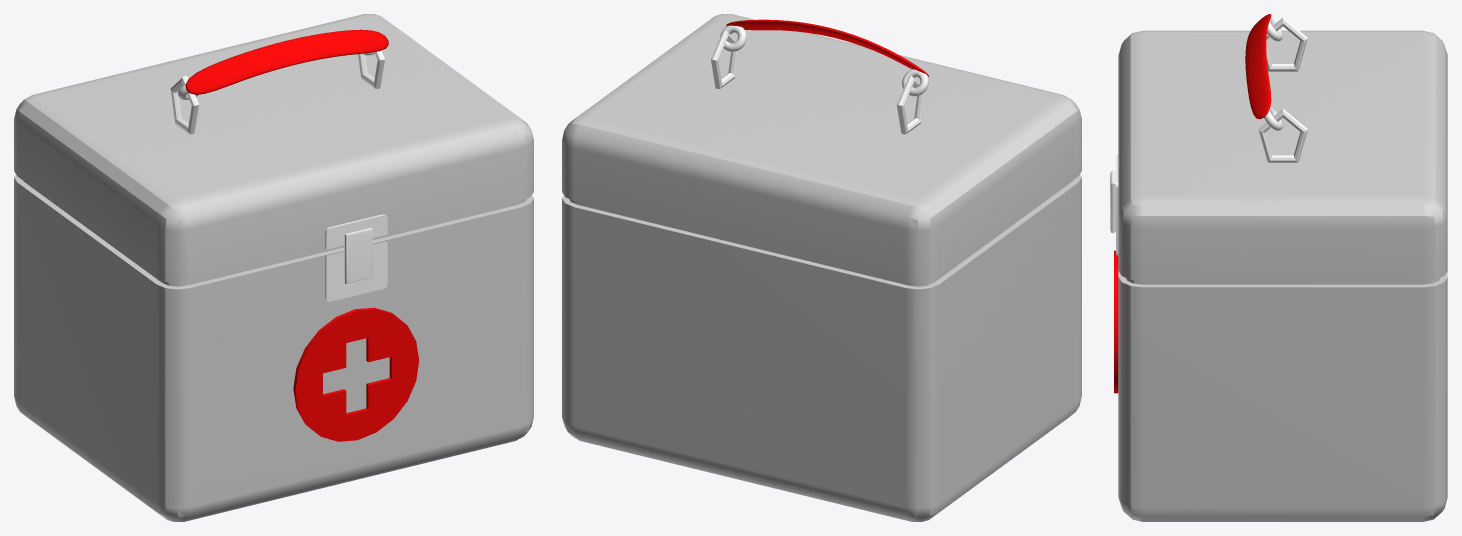
File: first_aid_box.glb
3 views of the same model, side by side, from view 1: azimuth 30°, elevation 25°; view 2: azimuth 150°, elevation 25°; view 3: azimuth 270°, elevation 25° (orthographic).
Visible parts, largest first — view 1: pCube42, pCylinder15, pCube45, pCube44, pCube43, pTorus2; view 2: pCube42, pCube45, pTorus2, pTorus1; view 3: pCube42, pCube45, pTorus1, pTorus2, pCylinder15.
Boxes of the visible parts, bbox=[...] form: pCube42: bbox=[14, 14, 533, 521]; pCylinder15: bbox=[293, 307, 419, 441]; pCube45: bbox=[185, 29, 388, 94]; pCube44: bbox=[325, 214, 387, 301]; pCube43: bbox=[344, 227, 372, 283]; pTorus2: bbox=[170, 75, 198, 134]; pCube42: bbox=[562, 14, 1081, 521]; pCube45: bbox=[726, 19, 928, 76]; pTorus2: bbox=[897, 75, 924, 134]; pTorus1: bbox=[711, 30, 738, 88]; pCube42: bbox=[1118, 30, 1447, 521]; pCube45: bbox=[1245, 14, 1271, 119]; pTorus1: bbox=[1258, 108, 1307, 162]; pTorus2: bbox=[1266, 17, 1307, 71]; pCylinder15: bbox=[1114, 250, 1118, 393].
Bounding box in the file's own units: 0.3651 × 0.3673 × 0.2836.
